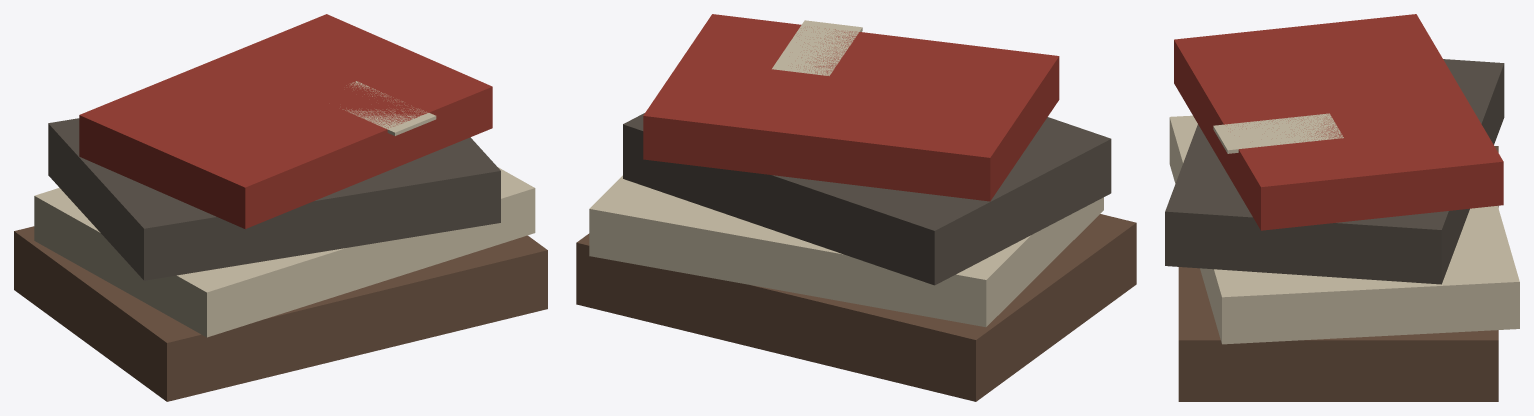
File: bedroom-book-stack.glb
The picture shows the model from 3 angles, left to right: view 1: azimuth 30°, elevation 25°; view 2: azimuth 150°, elevation 25°; view 3: azimuth 270°, elevation 25°; orthographic projection. The views are drawn at different scales.
Parts seen in each view (by area): view 1: accent-warm, wood, fabric, paper; view 2: accent-warm, wood, fabric, paper; view 3: accent-warm, paper, fabric, wood.
Boxes of the visible parts, x1,y1,x2,y2 form: accent-warm: (79, 14, 492, 228); wood: (14, 226, 547, 401); fabric: (48, 118, 500, 280); paper: (34, 81, 535, 337); accent-warm: (643, 14, 1059, 201); wood: (576, 214, 1136, 401); fabric: (623, 113, 1111, 285); paper: (589, 20, 1103, 327); accent-warm: (1174, 14, 1503, 230); paper: (1169, 113, 1519, 344); fabric: (1165, 59, 1504, 284); wood: (1178, 146, 1498, 401).
Bounding box in the file's own units: 0.2348 × 0.114 × 0.1773.
